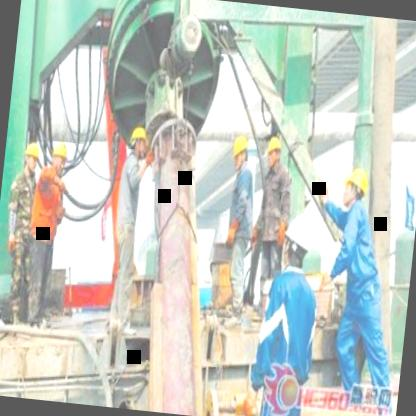helmet: (279, 208, 313, 275), (340, 164, 370, 210), (228, 131, 252, 174), (126, 124, 150, 165), (47, 139, 72, 176), (21, 136, 42, 180), (262, 134, 285, 170)
